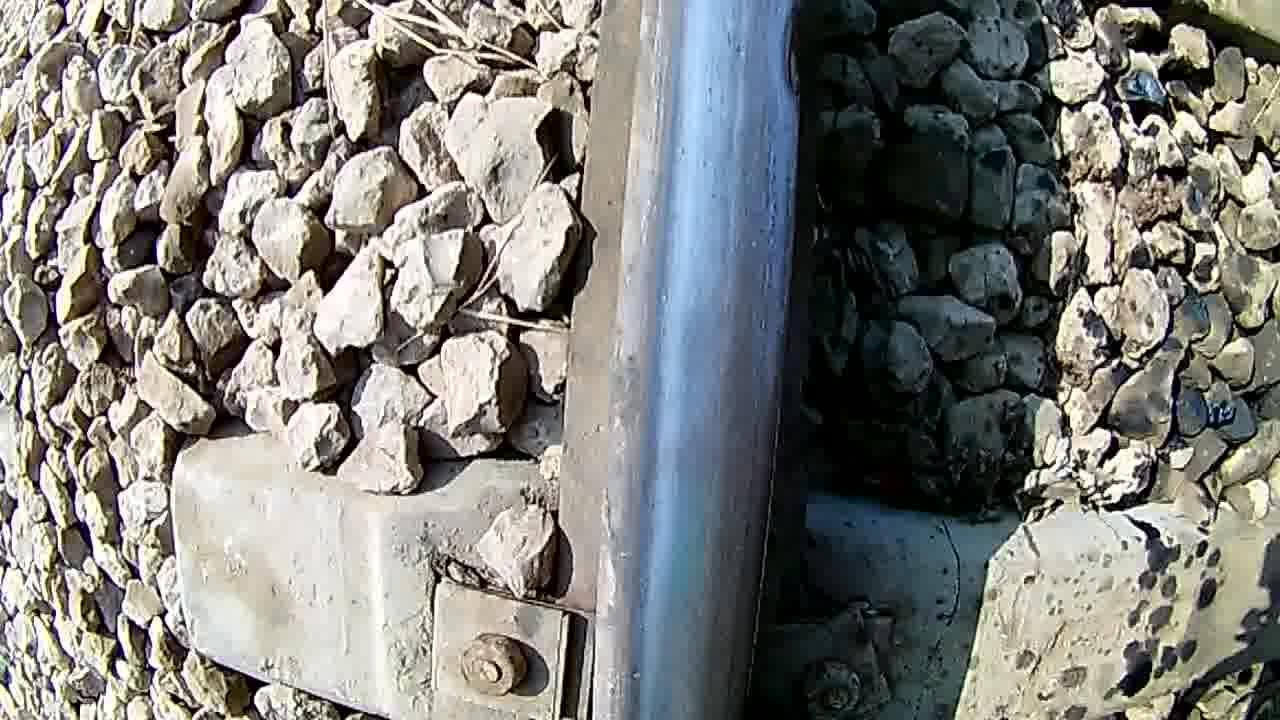crack: (598, 0, 781, 720)
